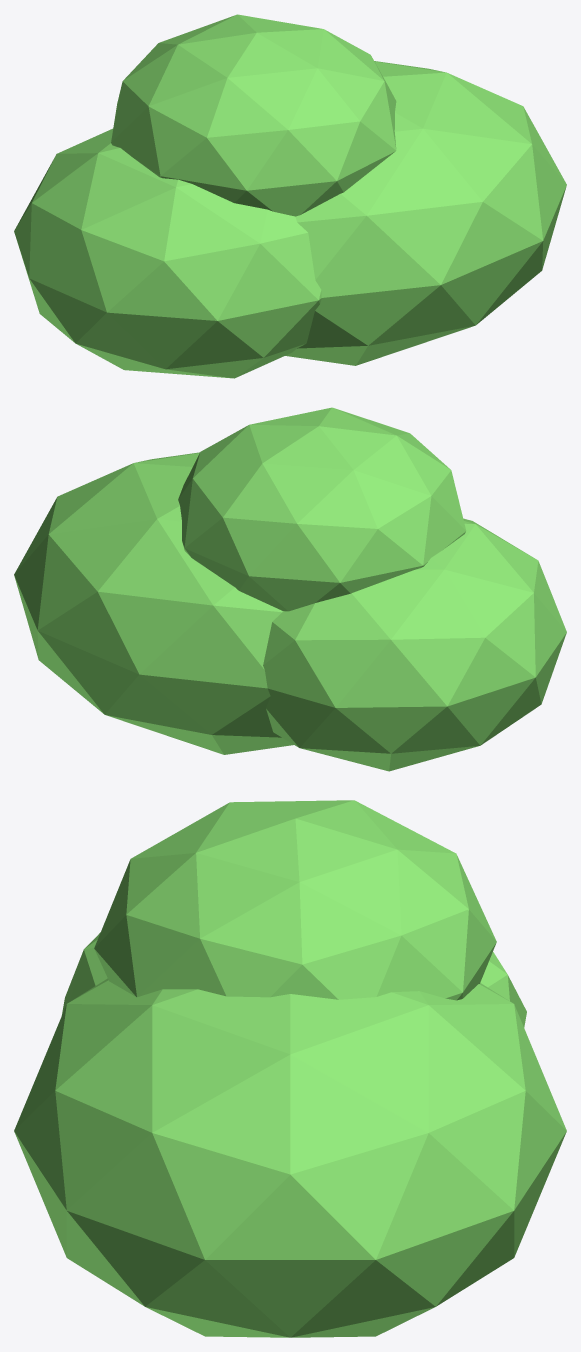
File: bush3.fbx
3 views of the same model, one above another, from view 1: azimuth 30°, elevation 25°; view 2: azimuth 150°, elevation 25°; view 3: azimuth 270°, elevation 25° (orthographic). The views are drawn at different scales.
Parts seen in each view (by area): view 1: bush3; view 2: bush3; view 3: bush3.
Boxes of the visible parts, x1,y1,x2,y2 form: bush3: (14,14,566,378); bush3: (14,407,566,771); bush3: (14,800,566,1337).
Size of the model in its own units: 239 by 148 by 171.
